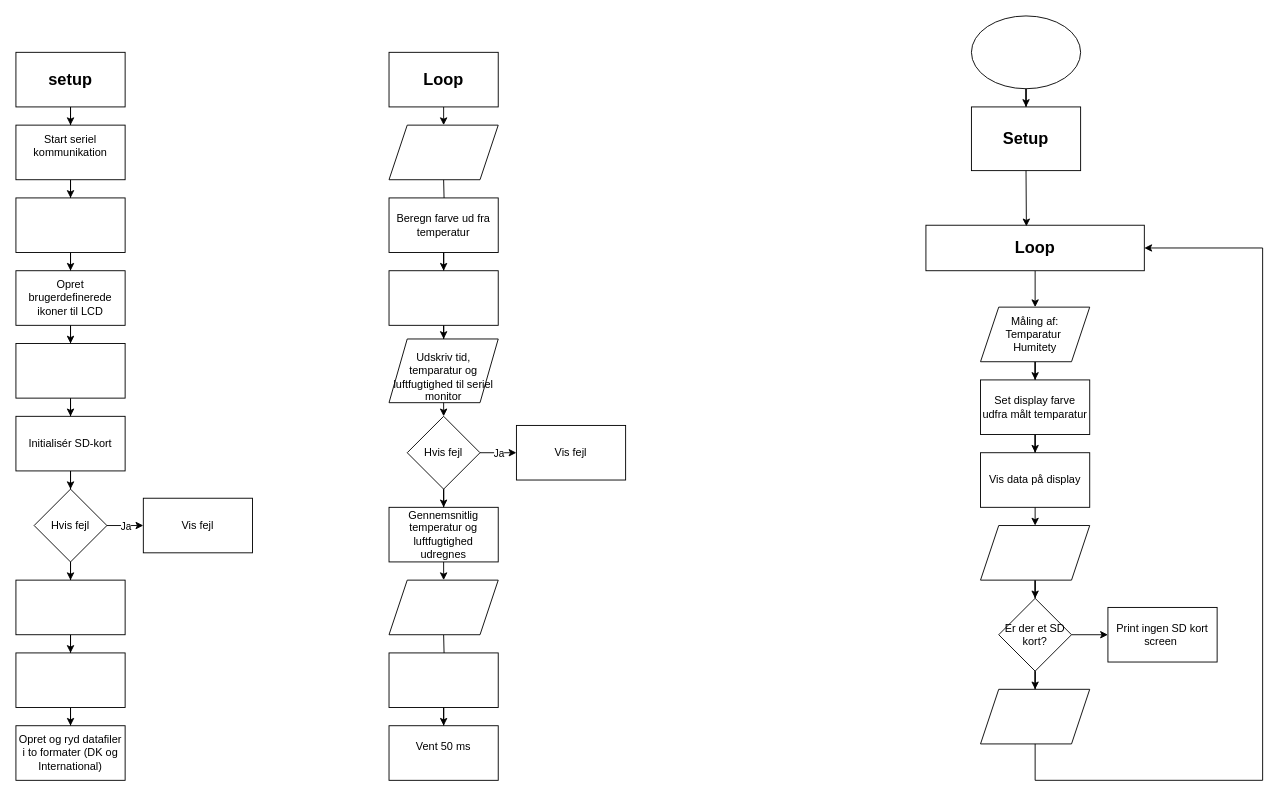
The diagram is 1286 pixels wide and 804 high, and some of its shapes have lost their labels. Each missing label, with the centre of its shape:
Find eller opret mappe på SD-kort til målinger: point (70, 680)
Gemmes i begge filformater på SD-kort: point (443, 607)
Hent senserdata: point (443, 152)
Initialisér LCD-skærm og farver: point (70, 225)
Initialisér temperatur- og fugtighedssensor: point (70, 607)
Opdater akkumulering: point (443, 680)
Overfør data til SD kort: point (1035, 716)
Start: point (1026, 52)
Udskriv data til seriel moniter: point (1035, 552)
Vis "Initializing" på LCD: point (70, 370)
Vis temperatur og fugtighed med ikon og værdi: point (443, 297)
